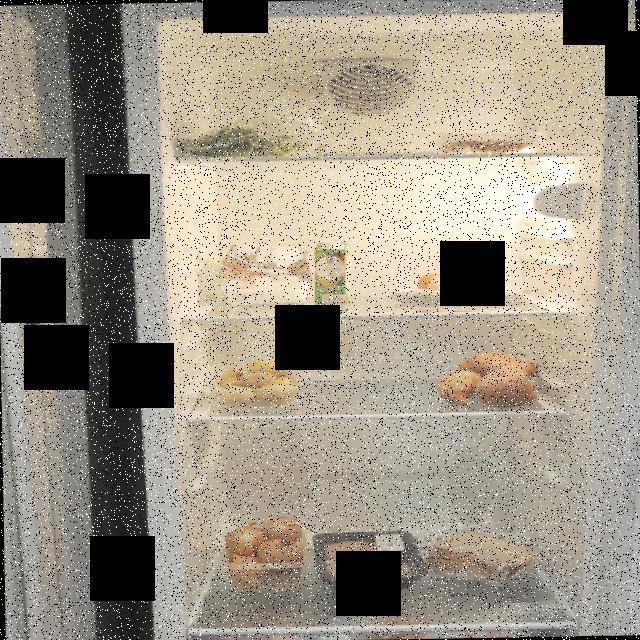bread: (424, 526, 539, 588)
chicken_breast: (310, 528, 428, 591)
eggs: (416, 270, 511, 300)
flour: (210, 238, 314, 308)
green_beans: (180, 119, 331, 159)
heavy_cream: (310, 237, 352, 305)
onion: (220, 515, 308, 593)
potato: (212, 354, 304, 406)
shrimp: (439, 136, 544, 154)
sweet_potato: (434, 344, 550, 412)
